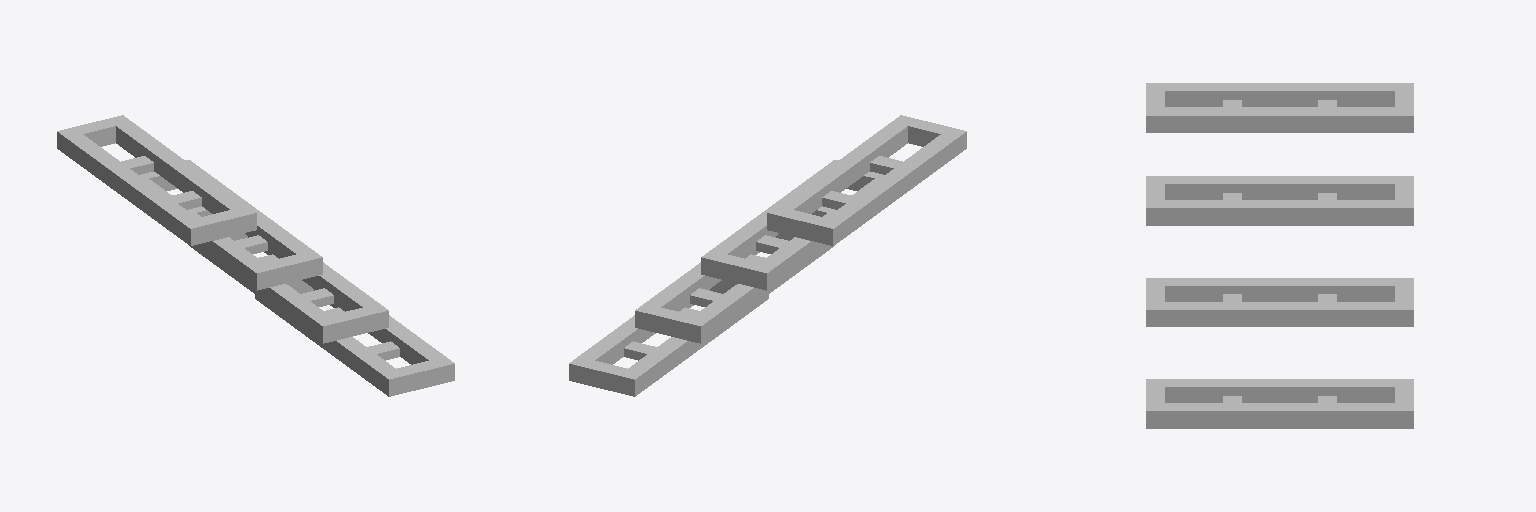
The model's file is stairs_east.obj.
3 renders of one model, left to right at view 1: azimuth 30°, elevation 25°; view 2: azimuth 150°, elevation 25°; view 3: azimuth 270°, elevation 25°, orthographic.
Parts seen in each view (by area): view 1: stairs_east; view 2: stairs_east; view 3: stairs_east.
Boxes of the visible parts, <box> form: stairs_east: <box>57,115,454,396</box>; stairs_east: <box>569,115,966,396</box>; stairs_east: <box>1146,83,1413,428</box>.
Size of the model in its own units: 0.9998 by 0.781 by 0.8748.